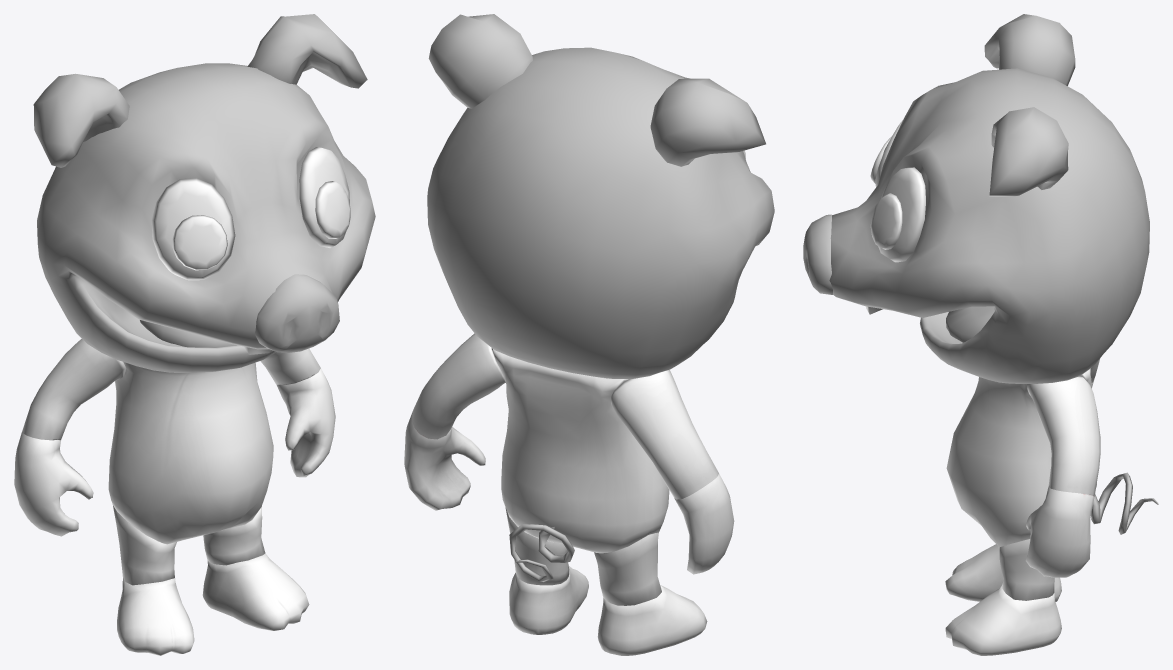
The model's file is SM_Character_Pig.FBX.
3 views of the same model, side by side, from view 1: azimuth 30°, elevation 25°; view 2: azimuth 150°, elevation 25°; view 3: azimuth 270°, elevation 25° (orthographic). The views are drawn at different scales.
Parts seen in each view (by area): view 1: Pig, NEWBody, Eyes; view 2: Pig, NEWBody; view 3: Pig, NEWBody, Eyes.
Boxes of the visible parts, x1,y1,x2,y2 form: Pig: (33,14,375,372); NEWBody: (14,339,335,655); Eyes: (151,147,350,280); Pig: (427,14,774,581); NEWBody: (404,333,734,655); Pig: (803,14,1158,534); NEWBody: (945,359,1100,655); Eyes: (870,119,925,262).
Bounding box in the file's own units: 0.5452 × 0.9532 × 0.5517.
